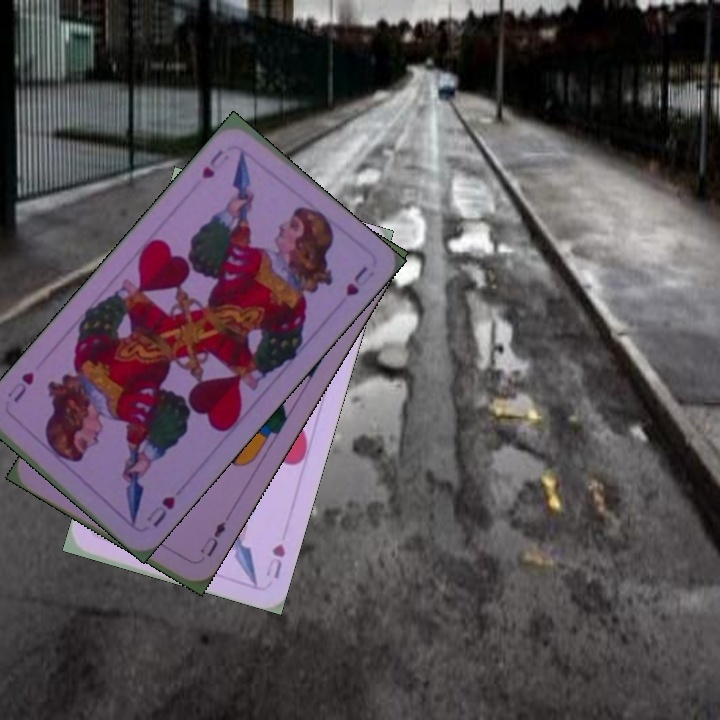EU: (196, 517, 229, 560)
HU: (141, 492, 178, 530), (197, 145, 232, 182), (261, 539, 288, 581)
